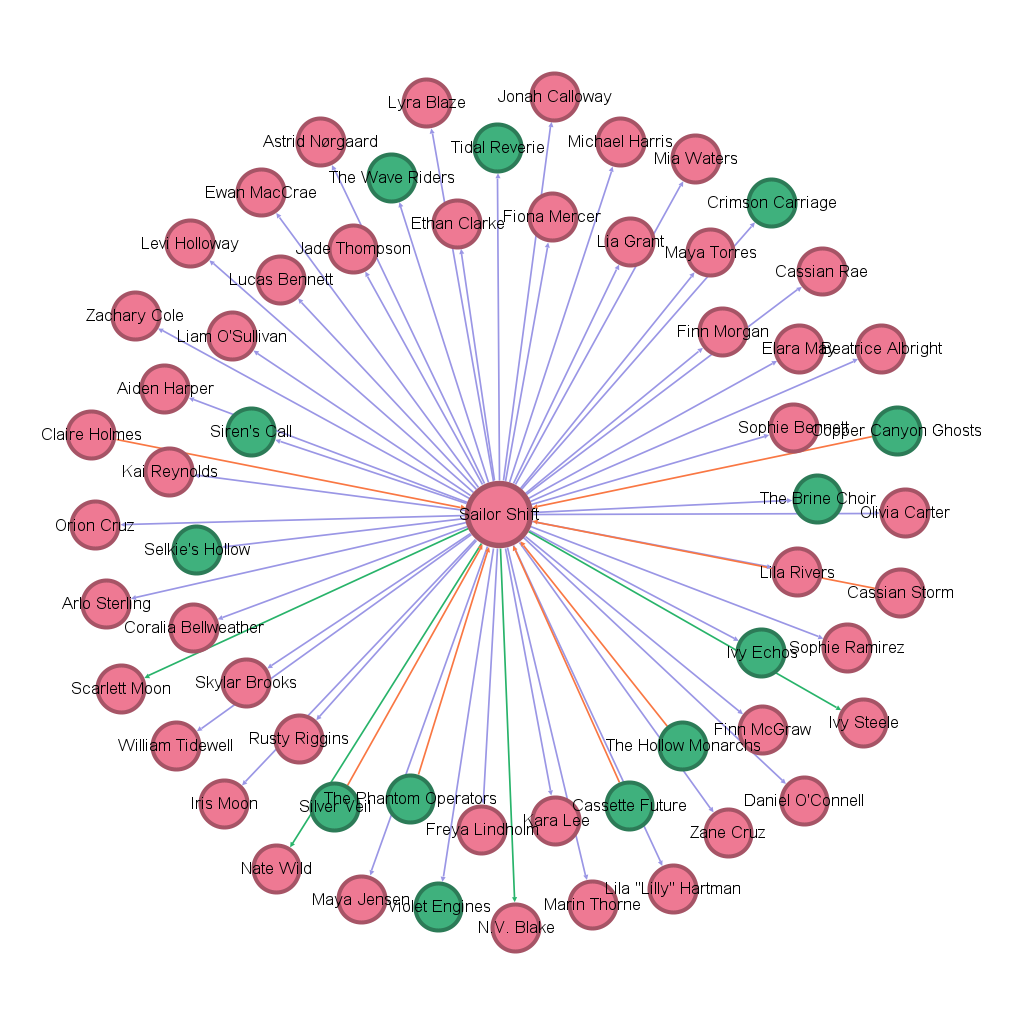

The page's visual inventory and layout, read from the dashboard file:
{"tool":"tableau","page":{"name":"Sailor Shift intro","canvas":[1000,1000],"units":"permille","ordinal":5},"visuals":[{"type":"worksheet","title":"01_Sailor_Career_Trajectory","mark":"Circle","rows":["genre"],"cols":["release_year"],"box":[4.8,9.2,990.3,981.6]}]}

Visuals, with their boxes on the dashboard's canvas, which has no fixed pixel size, in thousandths of its width and height (x1, y1, x2, y2). These are canvas units, not pixel positions in the 1024x1024 screenshot, which may show the page scaled, cropped or inside an application window:
"01_Sailor_Career_Trajectory" worksheet (Circle marks): (5, 9, 995, 991)
